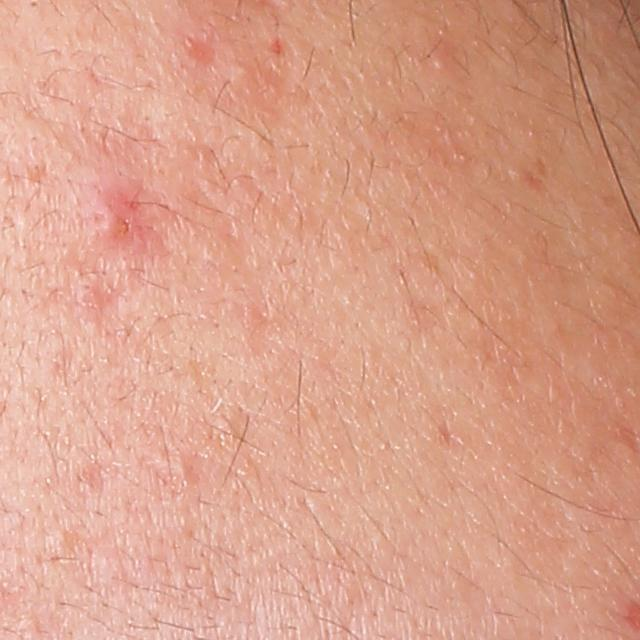comedo: (430, 49, 452, 72)
